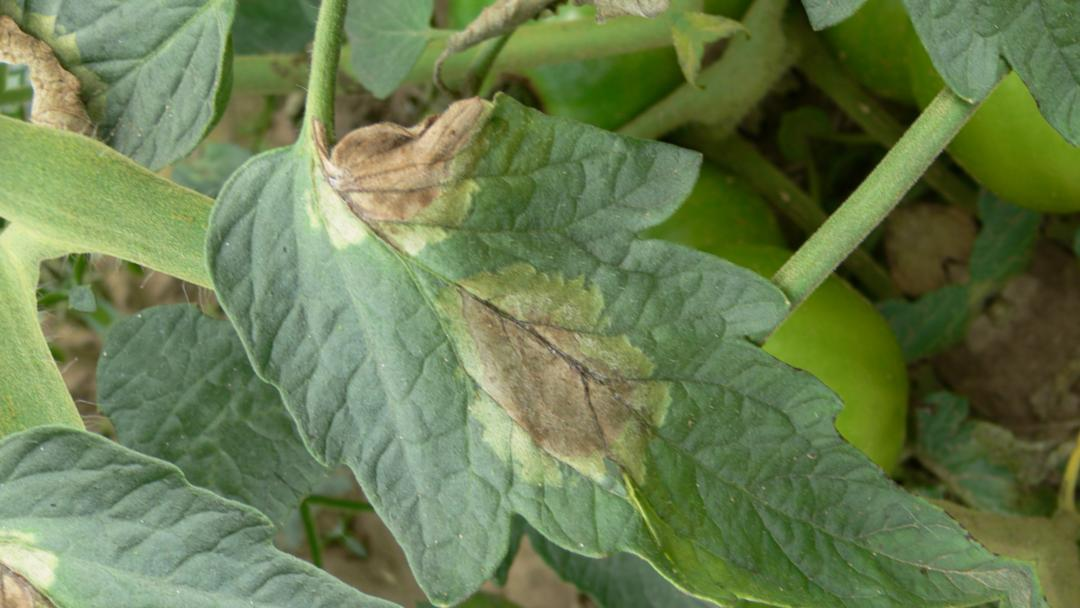Tomato leaf late blight: (101, 0, 1080, 608)
